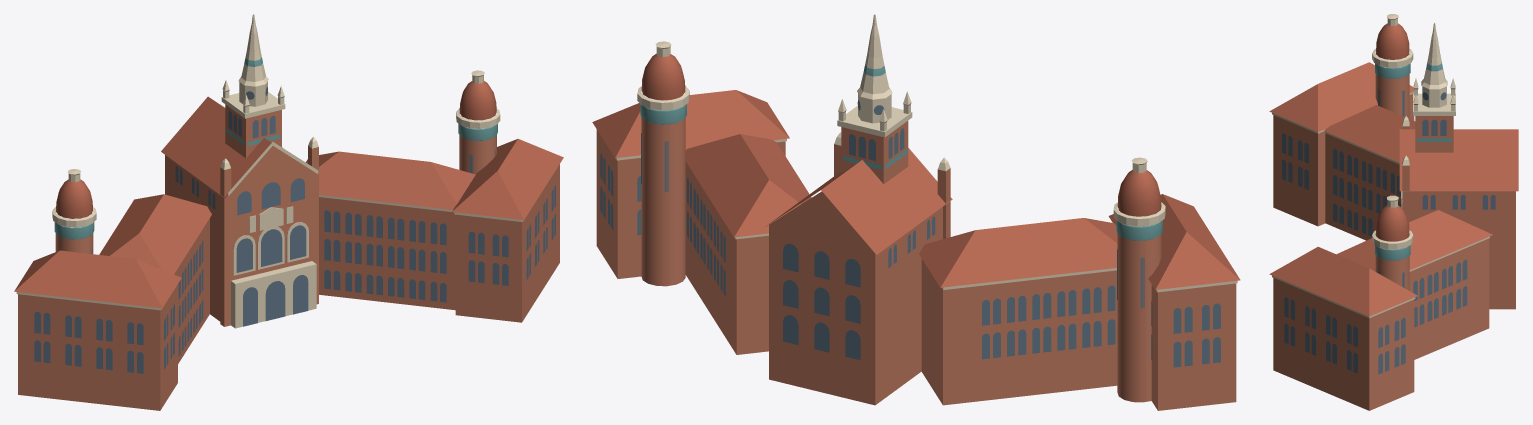
File: barcelona-sant-pau-administration.glb
3 renders of one model, left to right at view 1: azimuth 30°, elevation 25°; view 2: azimuth 150°, elevation 25°; view 3: azimuth 270°, elevation 25°, orthographic. The views are drawn at different scales.
Parts seen in each view (by area): view 1: Sant Pau Administration Pavilion; view 2: Sant Pau Administration Pavilion; view 3: Sant Pau Administration Pavilion.
Part boxes in pixels (x1,y1,x2,y2): Sant Pau Administration Pavilion: (14,14,563,410); Sant Pau Administration Pavilion: (592,14,1240,410); Sant Pau Administration Pavilion: (1269,14,1518,410).
Size of the model in its own units: 101 by 50.6 by 42.97.
